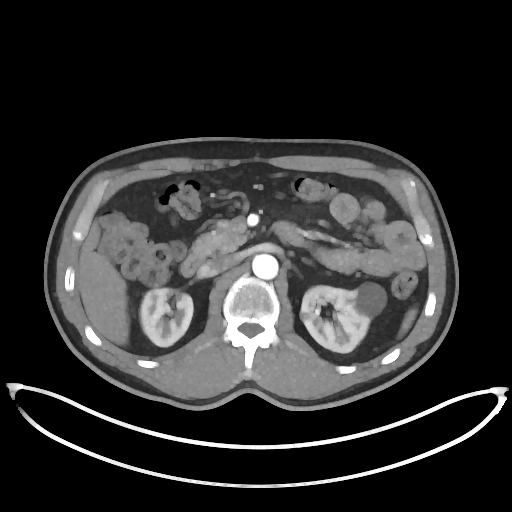Lesion: (354, 278, 391, 318)
